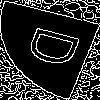D: (25, 24, 92, 73)
